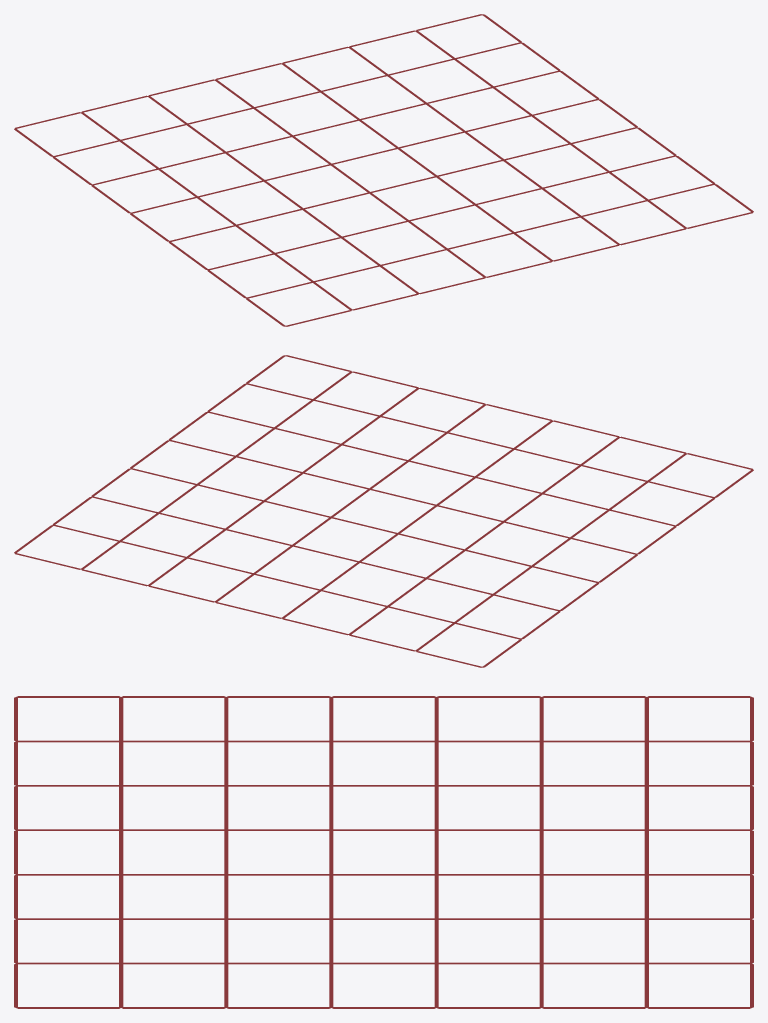
3 views of the same model, one above another, from view 1: azimuth 30°, elevation 25°; view 2: azimuth 150°, elevation 25°; view 3: azimuth 270°, elevation 25° (orthographic). The views are drawn at different scales.
Visible parts, largest first — view 1: Plane004; view 2: Plane004; view 3: Plane004.
Part boxes in pixels (box(x1,y1,x2,y2)): Plane004: box(14, 14, 753, 326); Plane004: box(14, 355, 753, 667); Plane004: box(14, 696, 753, 1008).
Bounding box in the file's own units: 765 × 765 × 0.
